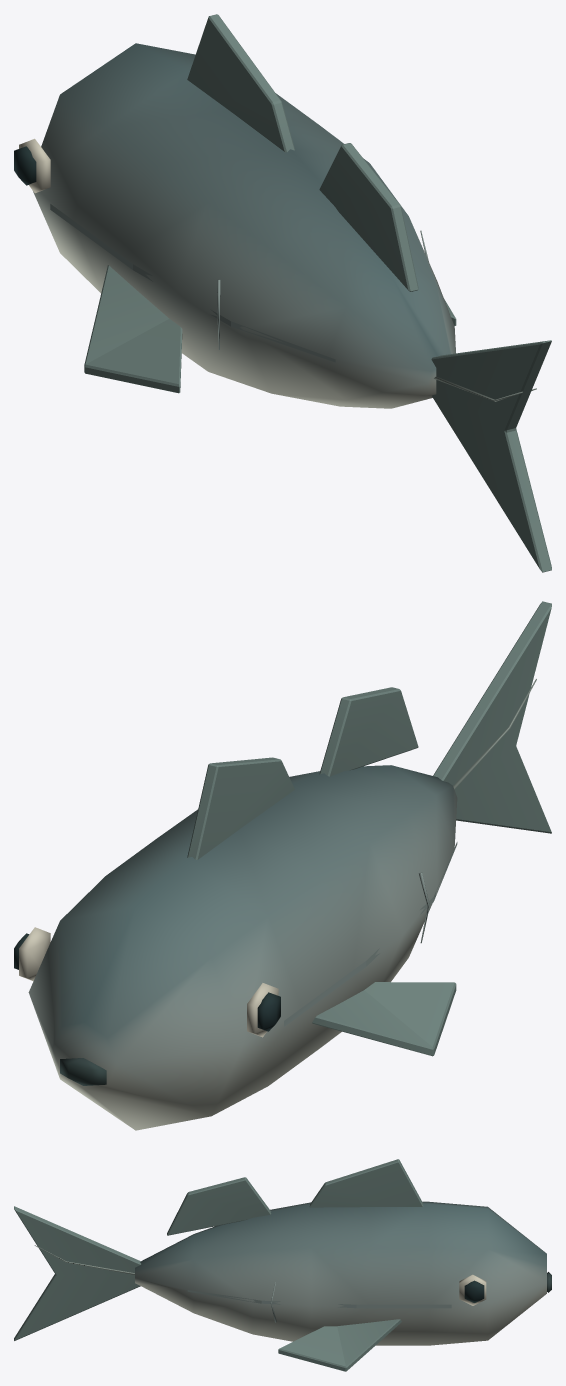
Rendered from fish_mullet_low.glb.
3 renders of one model, top to bottom at view 1: azimuth 30°, elevation 25°; view 2: azimuth 150°, elevation 25°; view 3: azimuth 270°, elevation 25°, orthographic. The views are drawn at different scales.
Bounding box in the file's own units: 0.1724 × 0.1499 × 0.3997.
